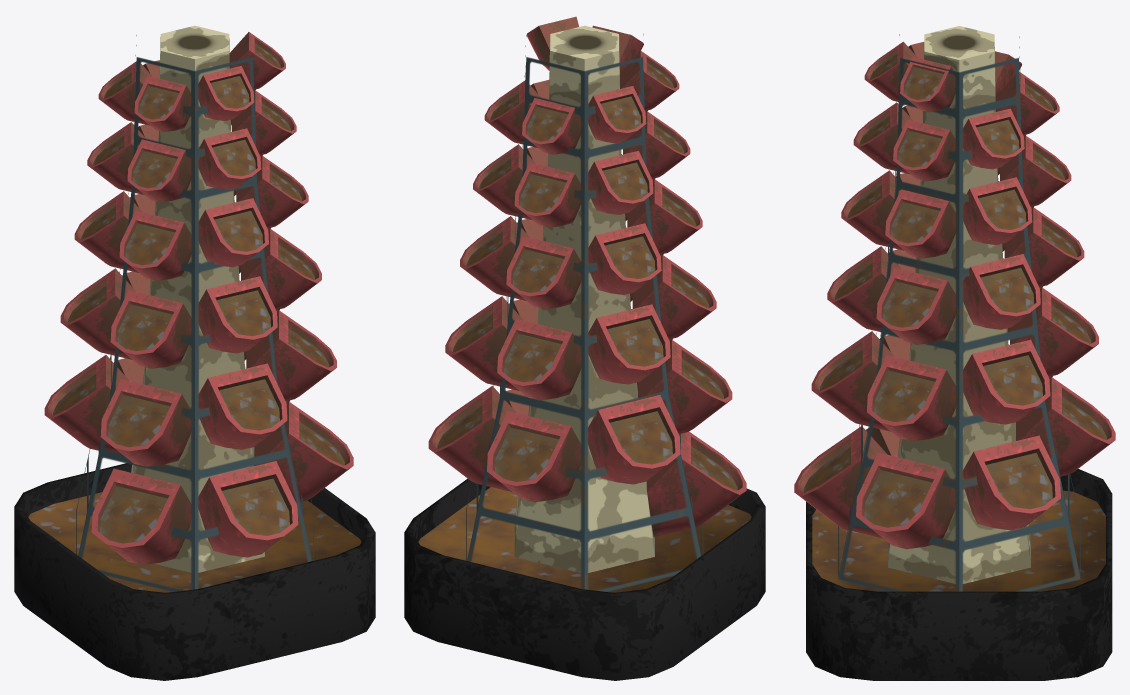
File: sm_vertical_garden.gltf
3 renders of one model, left to right at view 1: azimuth 30°, elevation 25°; view 2: azimuth 150°, elevation 25°; view 3: azimuth 270°, elevation 25°, orthographic. The views are drawn at different scales.
Visible parts, largest first — view 1: sm_vertical_garden, sm_base; view 2: sm_vertical_garden, sm_base; view 3: sm_vertical_garden, sm_base.
Boxes of the visible parts, bbox=[...] form: sm_vertical_garden: bbox=[44, 25, 353, 591]; sm_base: bbox=[14, 463, 375, 680]; sm_vertical_garden: bbox=[428, 16, 746, 591]; sm_base: bbox=[404, 478, 765, 680]; sm_vertical_garden: bbox=[794, 26, 1115, 591]; sm_base: bbox=[806, 469, 1112, 680].
Size of the model in its own units: 1.1 by 2.27 by 1.15.
Materials: 4 (4 with a texture image).
